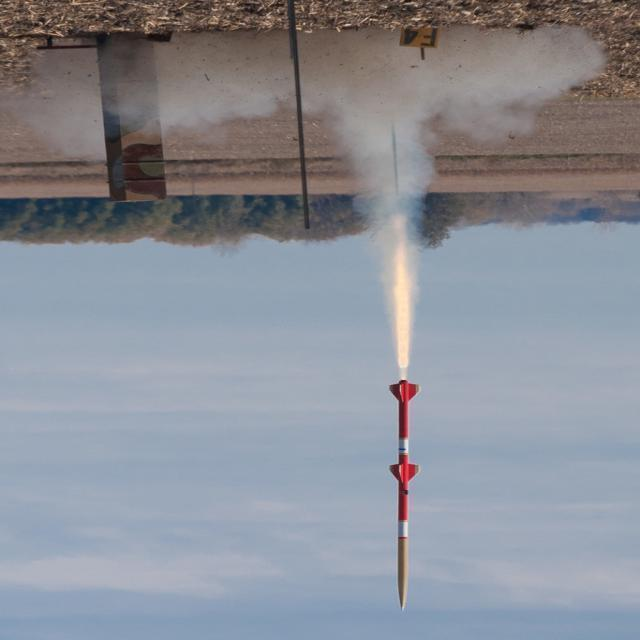missile: (375, 375, 435, 606)
